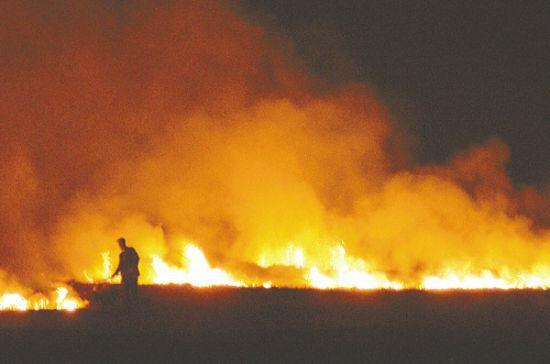fire: (146, 233, 547, 291), (0, 267, 90, 312)
